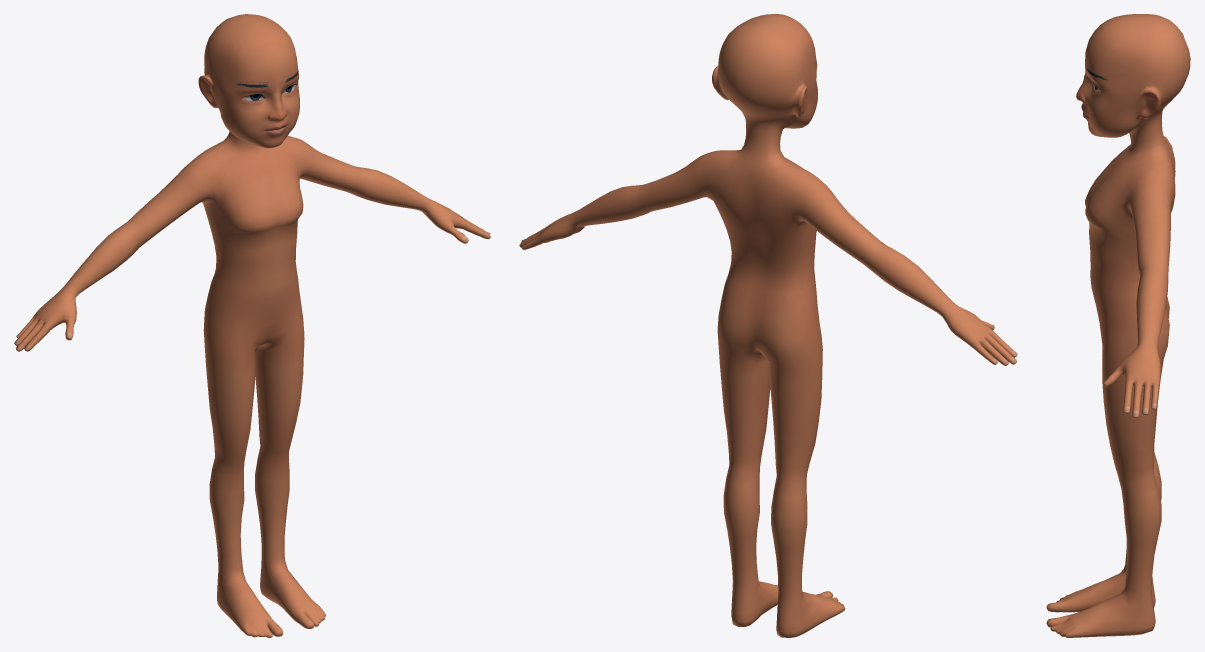
File: frame_0091.glb
The picture shows the model from 3 angles, left to right: view 1: azimuth 30°, elevation 25°; view 2: azimuth 150°, elevation 25°; view 3: azimuth 270°, elevation 25°; orthographic projection. The views are drawn at different scales.
Parts seen in each view (by area): view 1: frame_0091_head_geo; view 2: frame_0091_head_geo; view 3: frame_0091_head_geo.
Part boxes in pixels (box(x1,y1,x2,y2)): frame_0091_head_geo: box(14, 14, 490, 637); frame_0091_head_geo: box(519, 14, 1017, 637); frame_0091_head_geo: box(1046, 14, 1190, 637).
Bounding box in the file's own units: 1.28 × 1.5 × 0.3253.
Materials: 3 (3 with a texture image).
